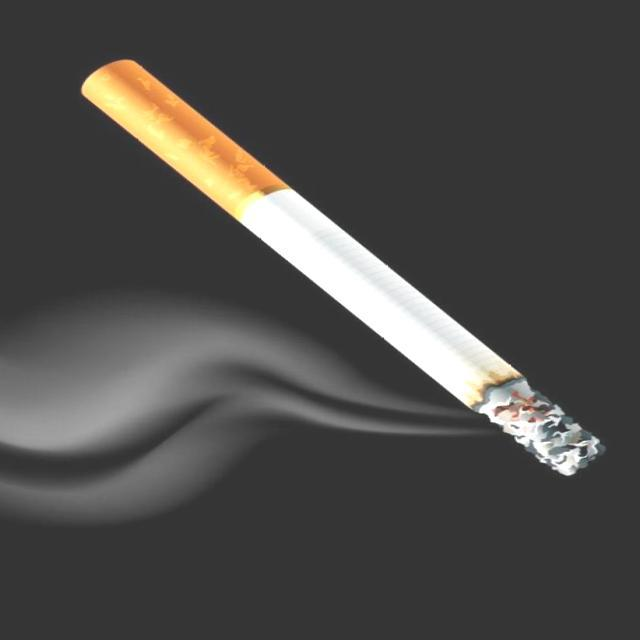cigarette: (59, 41, 628, 488)
